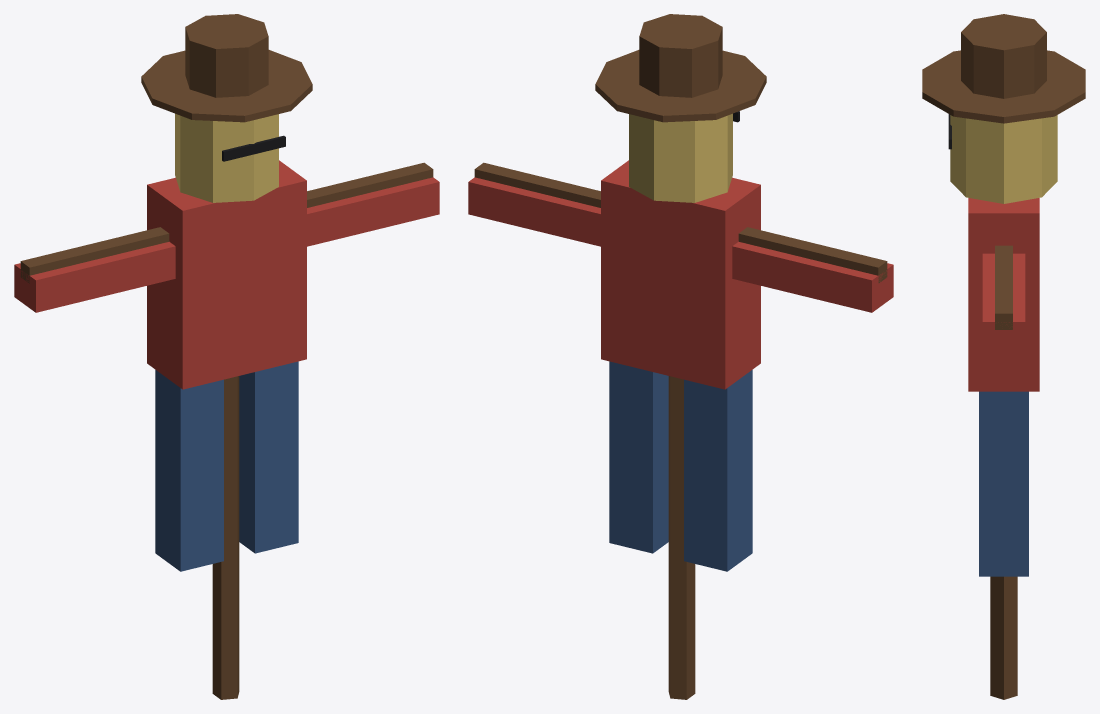
Rendered from FM_Scarecrow_01.glb.
3 views of the same model, side by side, from view 1: azimuth 30°, elevation 25°; view 2: azimuth 150°, elevation 25°; view 3: azimuth 270°, elevation 25° (orthographic).
Parts seen in each view (by area): view 1: FM_Scarecrow_01; view 2: FM_Scarecrow_01; view 3: FM_Scarecrow_01.
Part boxes in pixels (bbox=[...]): FM_Scarecrow_01: bbox=[14, 14, 439, 699]; FM_Scarecrow_01: bbox=[468, 14, 893, 699]; FM_Scarecrow_01: bbox=[922, 14, 1085, 699].
Bounding box in the file's own units: 1.3 × 2.04 × 0.4565.
1 material, 1 textured.
